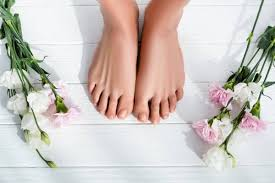Feet: (86, 6, 139, 124), (136, 12, 186, 125)
